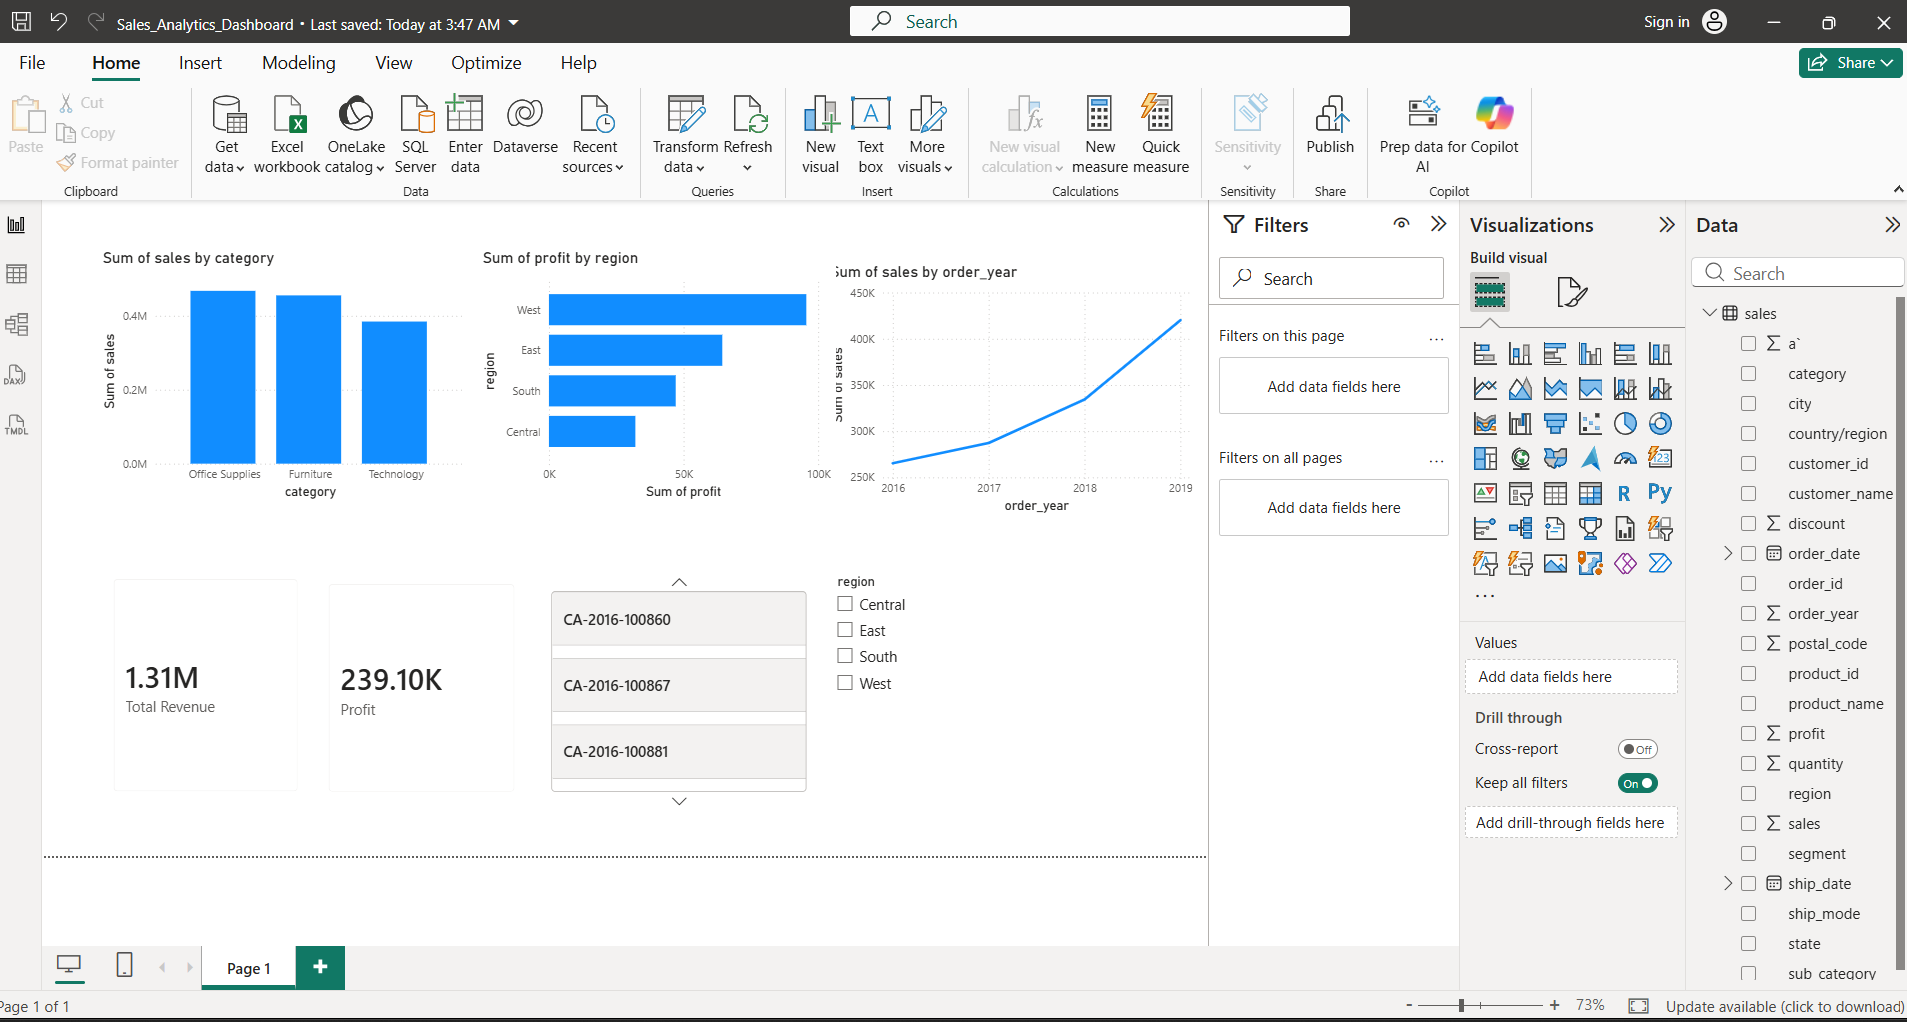

This screenshot's page, from the dashboard's own definition file:
{"tool":"powerbi","page":{"name":"Page 1","canvas":[1280,720],"ordinal":0},"visuals":[{"type":"cardVisual","fields":{"Data":["Sum(sales.sales)"]},"box":[61.7,399.3,236,267.6],"z":0},{"type":"cardVisual","fields":{"Data":["Sum(sales.profit)"]},"box":[297.8,404.8,238.8,262.1],"z":1},{"type":"cardVisual","fields":{"Rows":["sales.order_id"]},"box":[554.4,404.8,290.9,271.7],"z":2},{"type":"clusteredColumnChart","fields":{"Category":["sales.category"],"Y":["Sum(sales.sales)"]},"box":[61.7,53.5,407.5,279.9],"z":3},{"type":"lineChart","fields":{"Category":["sales.order_year"],"Y":["Sum(sales.sales)"]},"box":[860.4,68.6,407.5,279.9],"z":4},{"type":"clusteredBarChart","fields":{"Y":["Sum(sales.profit)"],"Category":["sales.region"]},"box":[478.9,53.5,392.5,279.9],"z":5},{"type":"slicer","fields":{"Values":["sales.region"]},"box":[860,405,408,272],"z":6}]}

Visuals, with their boxes on the page's 1280x720 design canvas (x1, y1, x2, y2). These are canvas units, not pixel positions in the 1907x1022 screenshot, which may show the page scaled, cropped or inside an application window:
cardVisual - Sum(sales.sales): [left=62, top=399, right=298, bottom=667]
cardVisual - Sum(sales.profit): [left=298, top=405, right=537, bottom=667]
cardVisual - sales.order_id: [left=554, top=405, right=845, bottom=676]
clusteredColumnChart - sales.category x Sum(sales.sales): [left=62, top=54, right=469, bottom=333]
lineChart - sales.order_year x Sum(sales.sales): [left=860, top=69, right=1268, bottom=348]
clusteredBarChart - Sum(sales.profit) x sales.region: [left=479, top=54, right=871, bottom=333]
slicer - sales.region: [left=860, top=405, right=1268, bottom=677]
